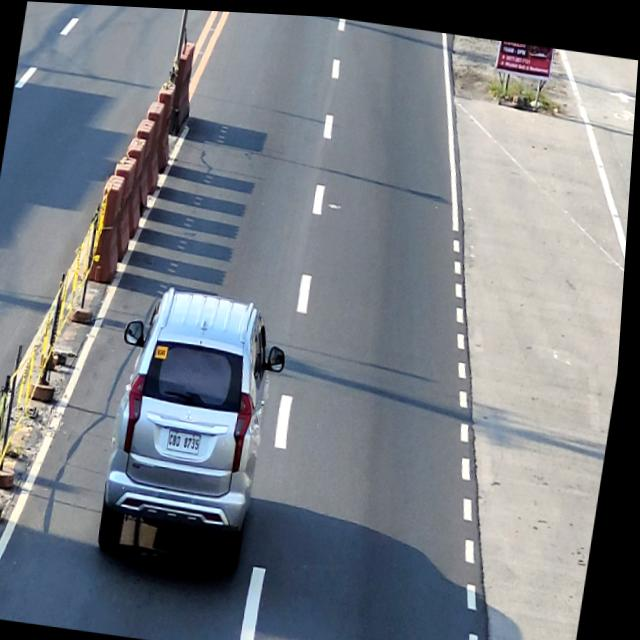Car: (97, 276, 298, 576)
License-Plate: (172, 428, 207, 452)
